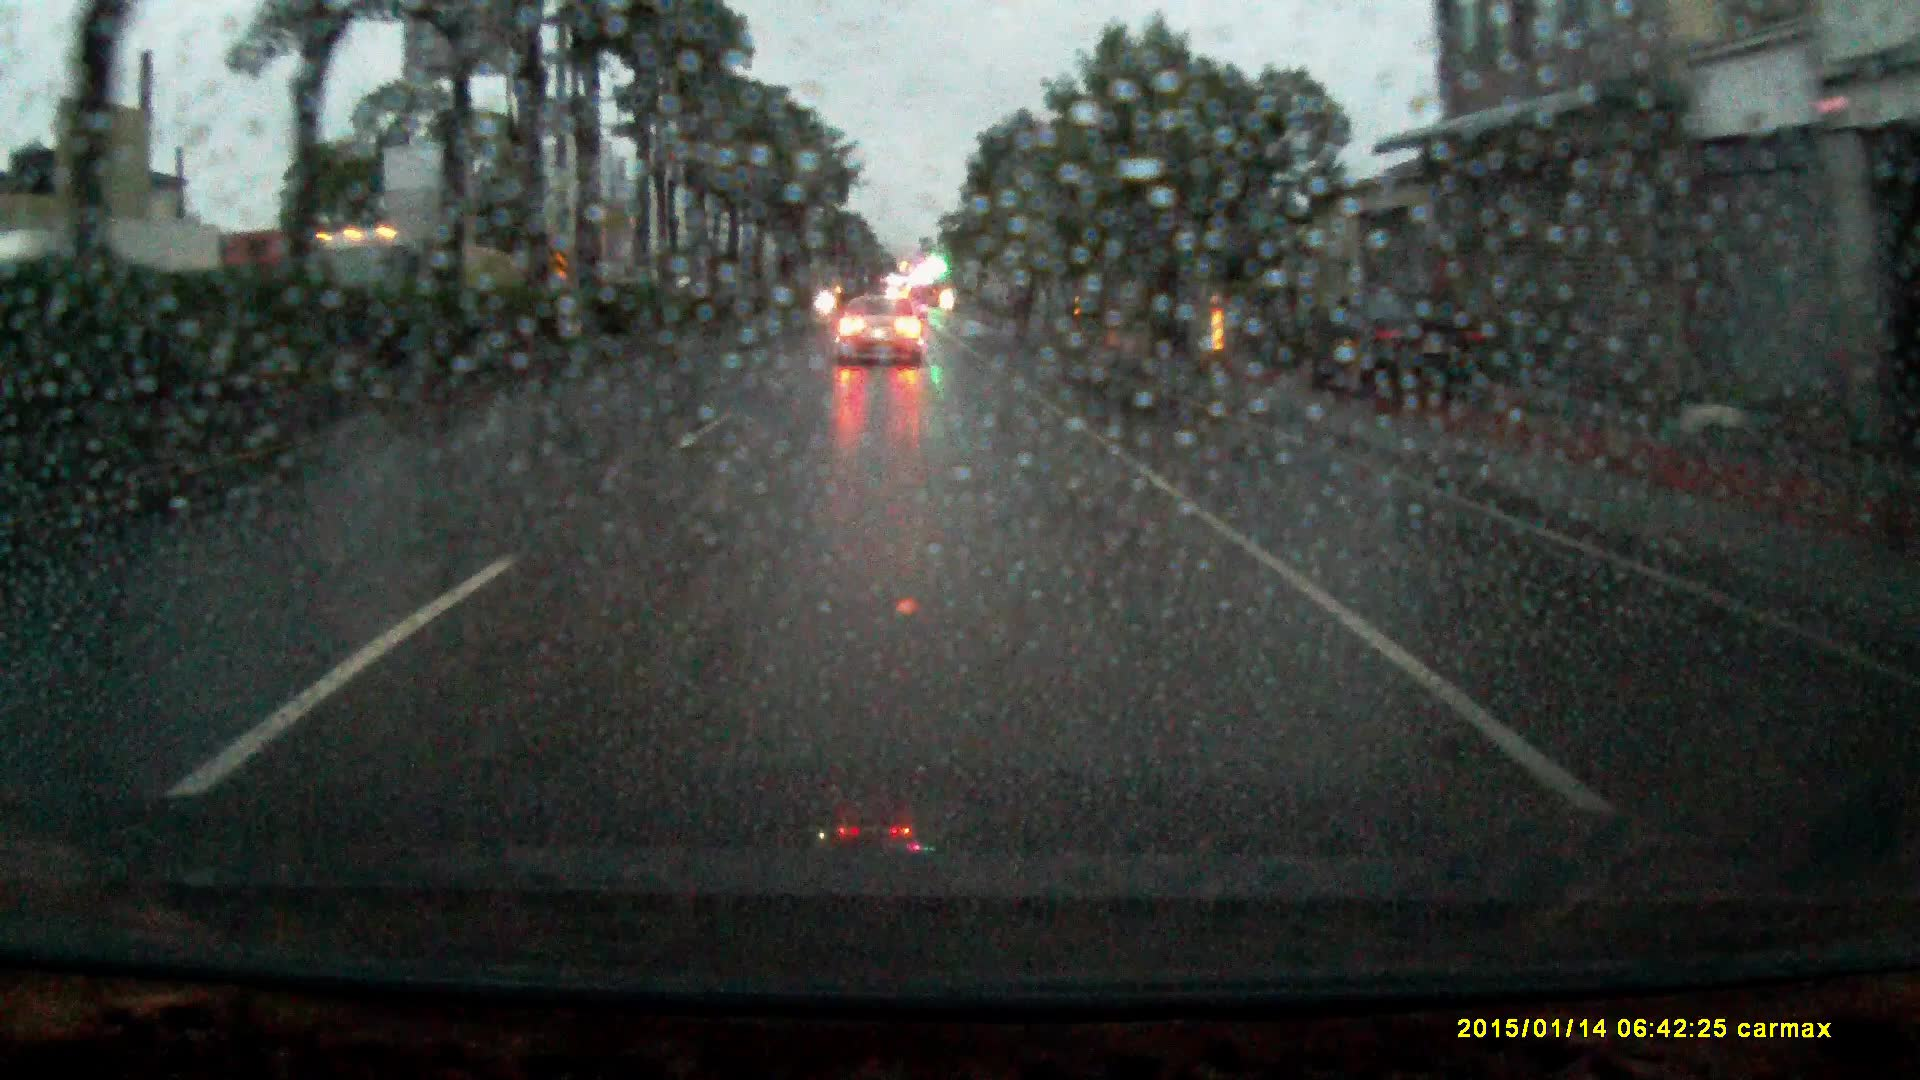vehicle: (284, 229, 518, 347), (1308, 291, 1481, 404), (833, 301, 926, 372)
